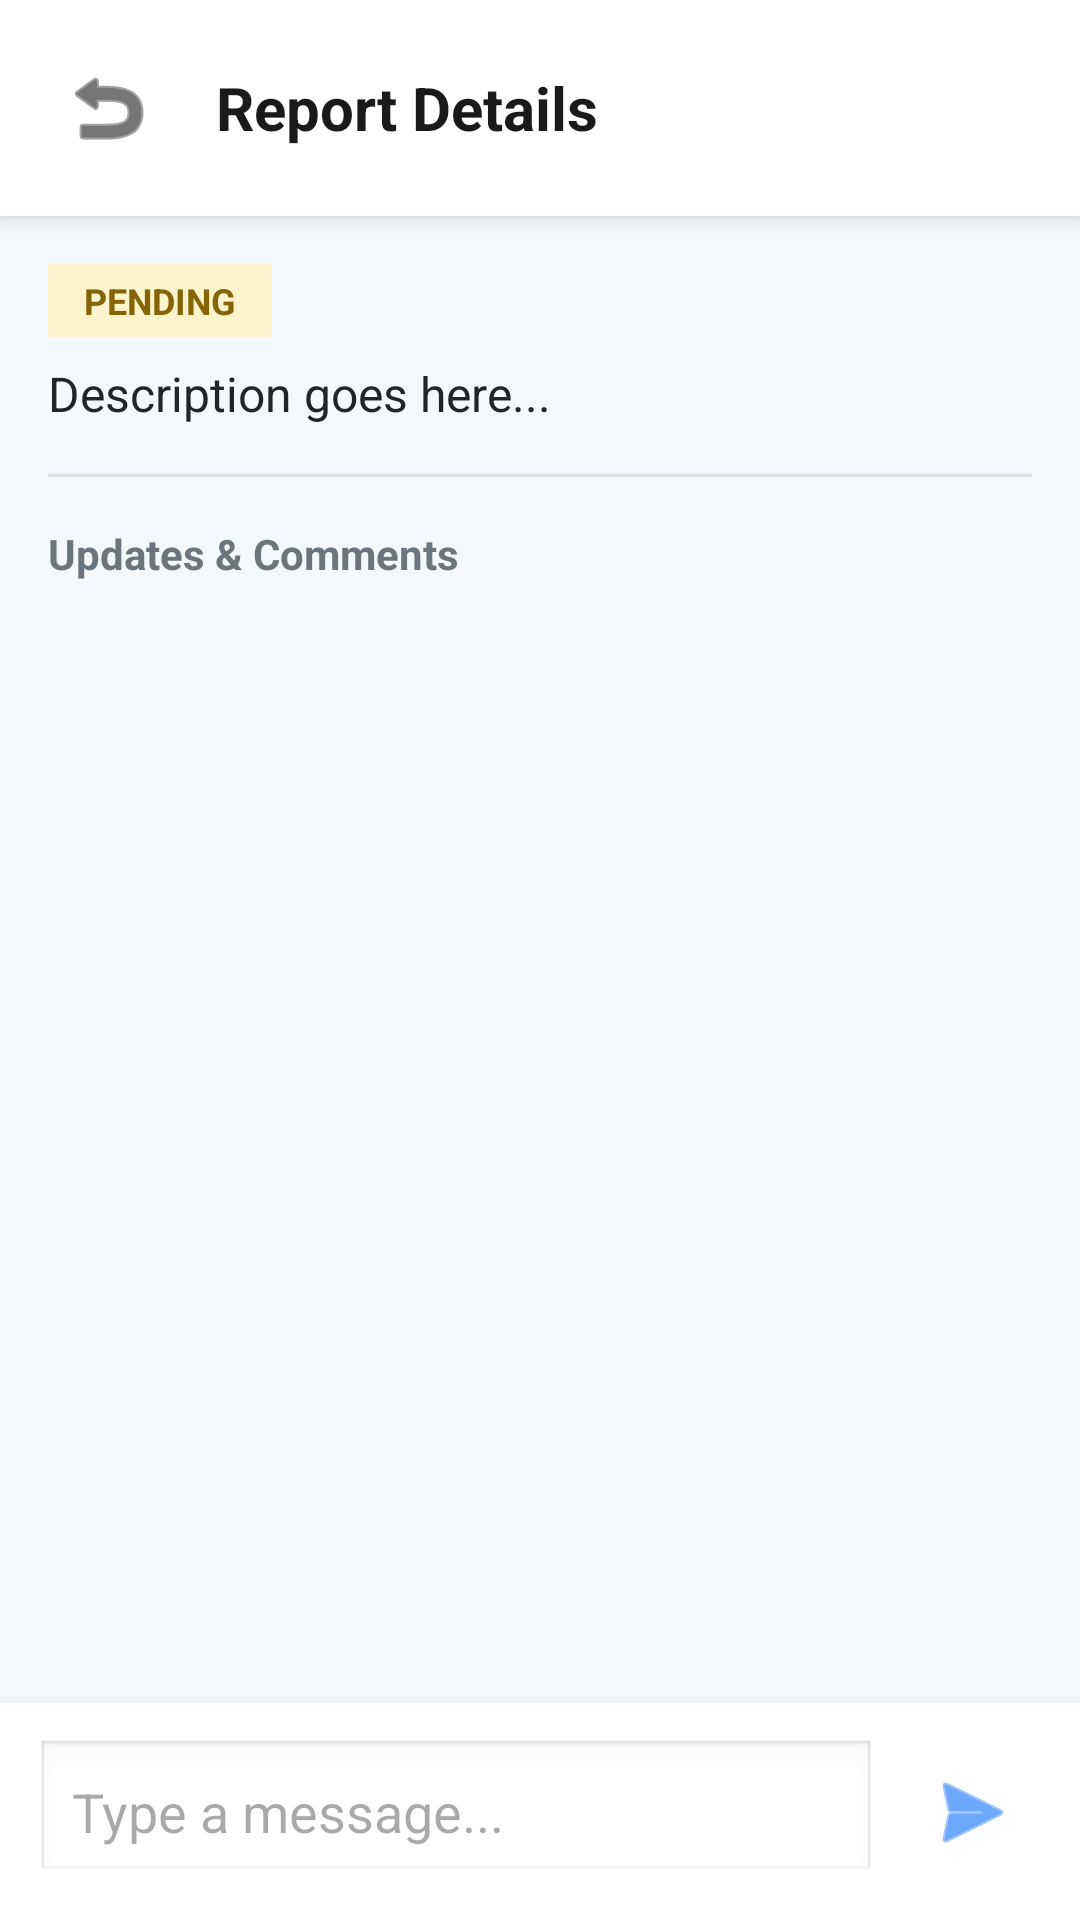

Icons on this 1080px x 1920px Android screen, each with its box as (x1, y1, x2, y2):
revert: (75, 77, 144, 140)
send: (942, 1782, 1004, 1843)
